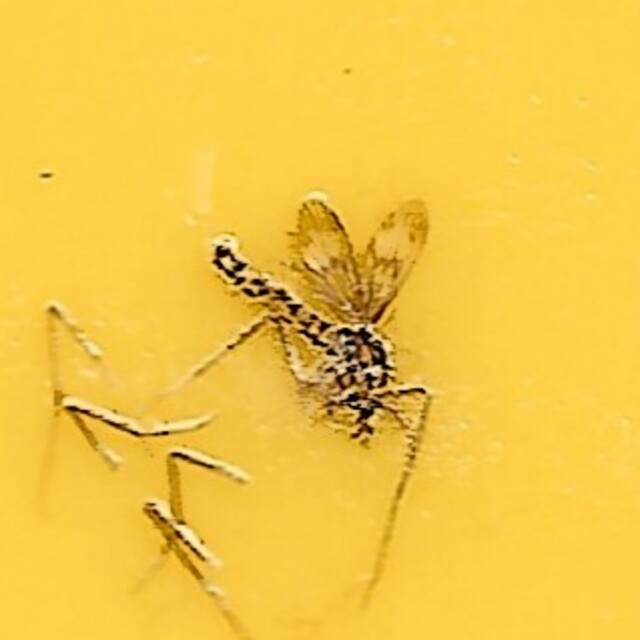Nematocera: (201, 195, 439, 445)
